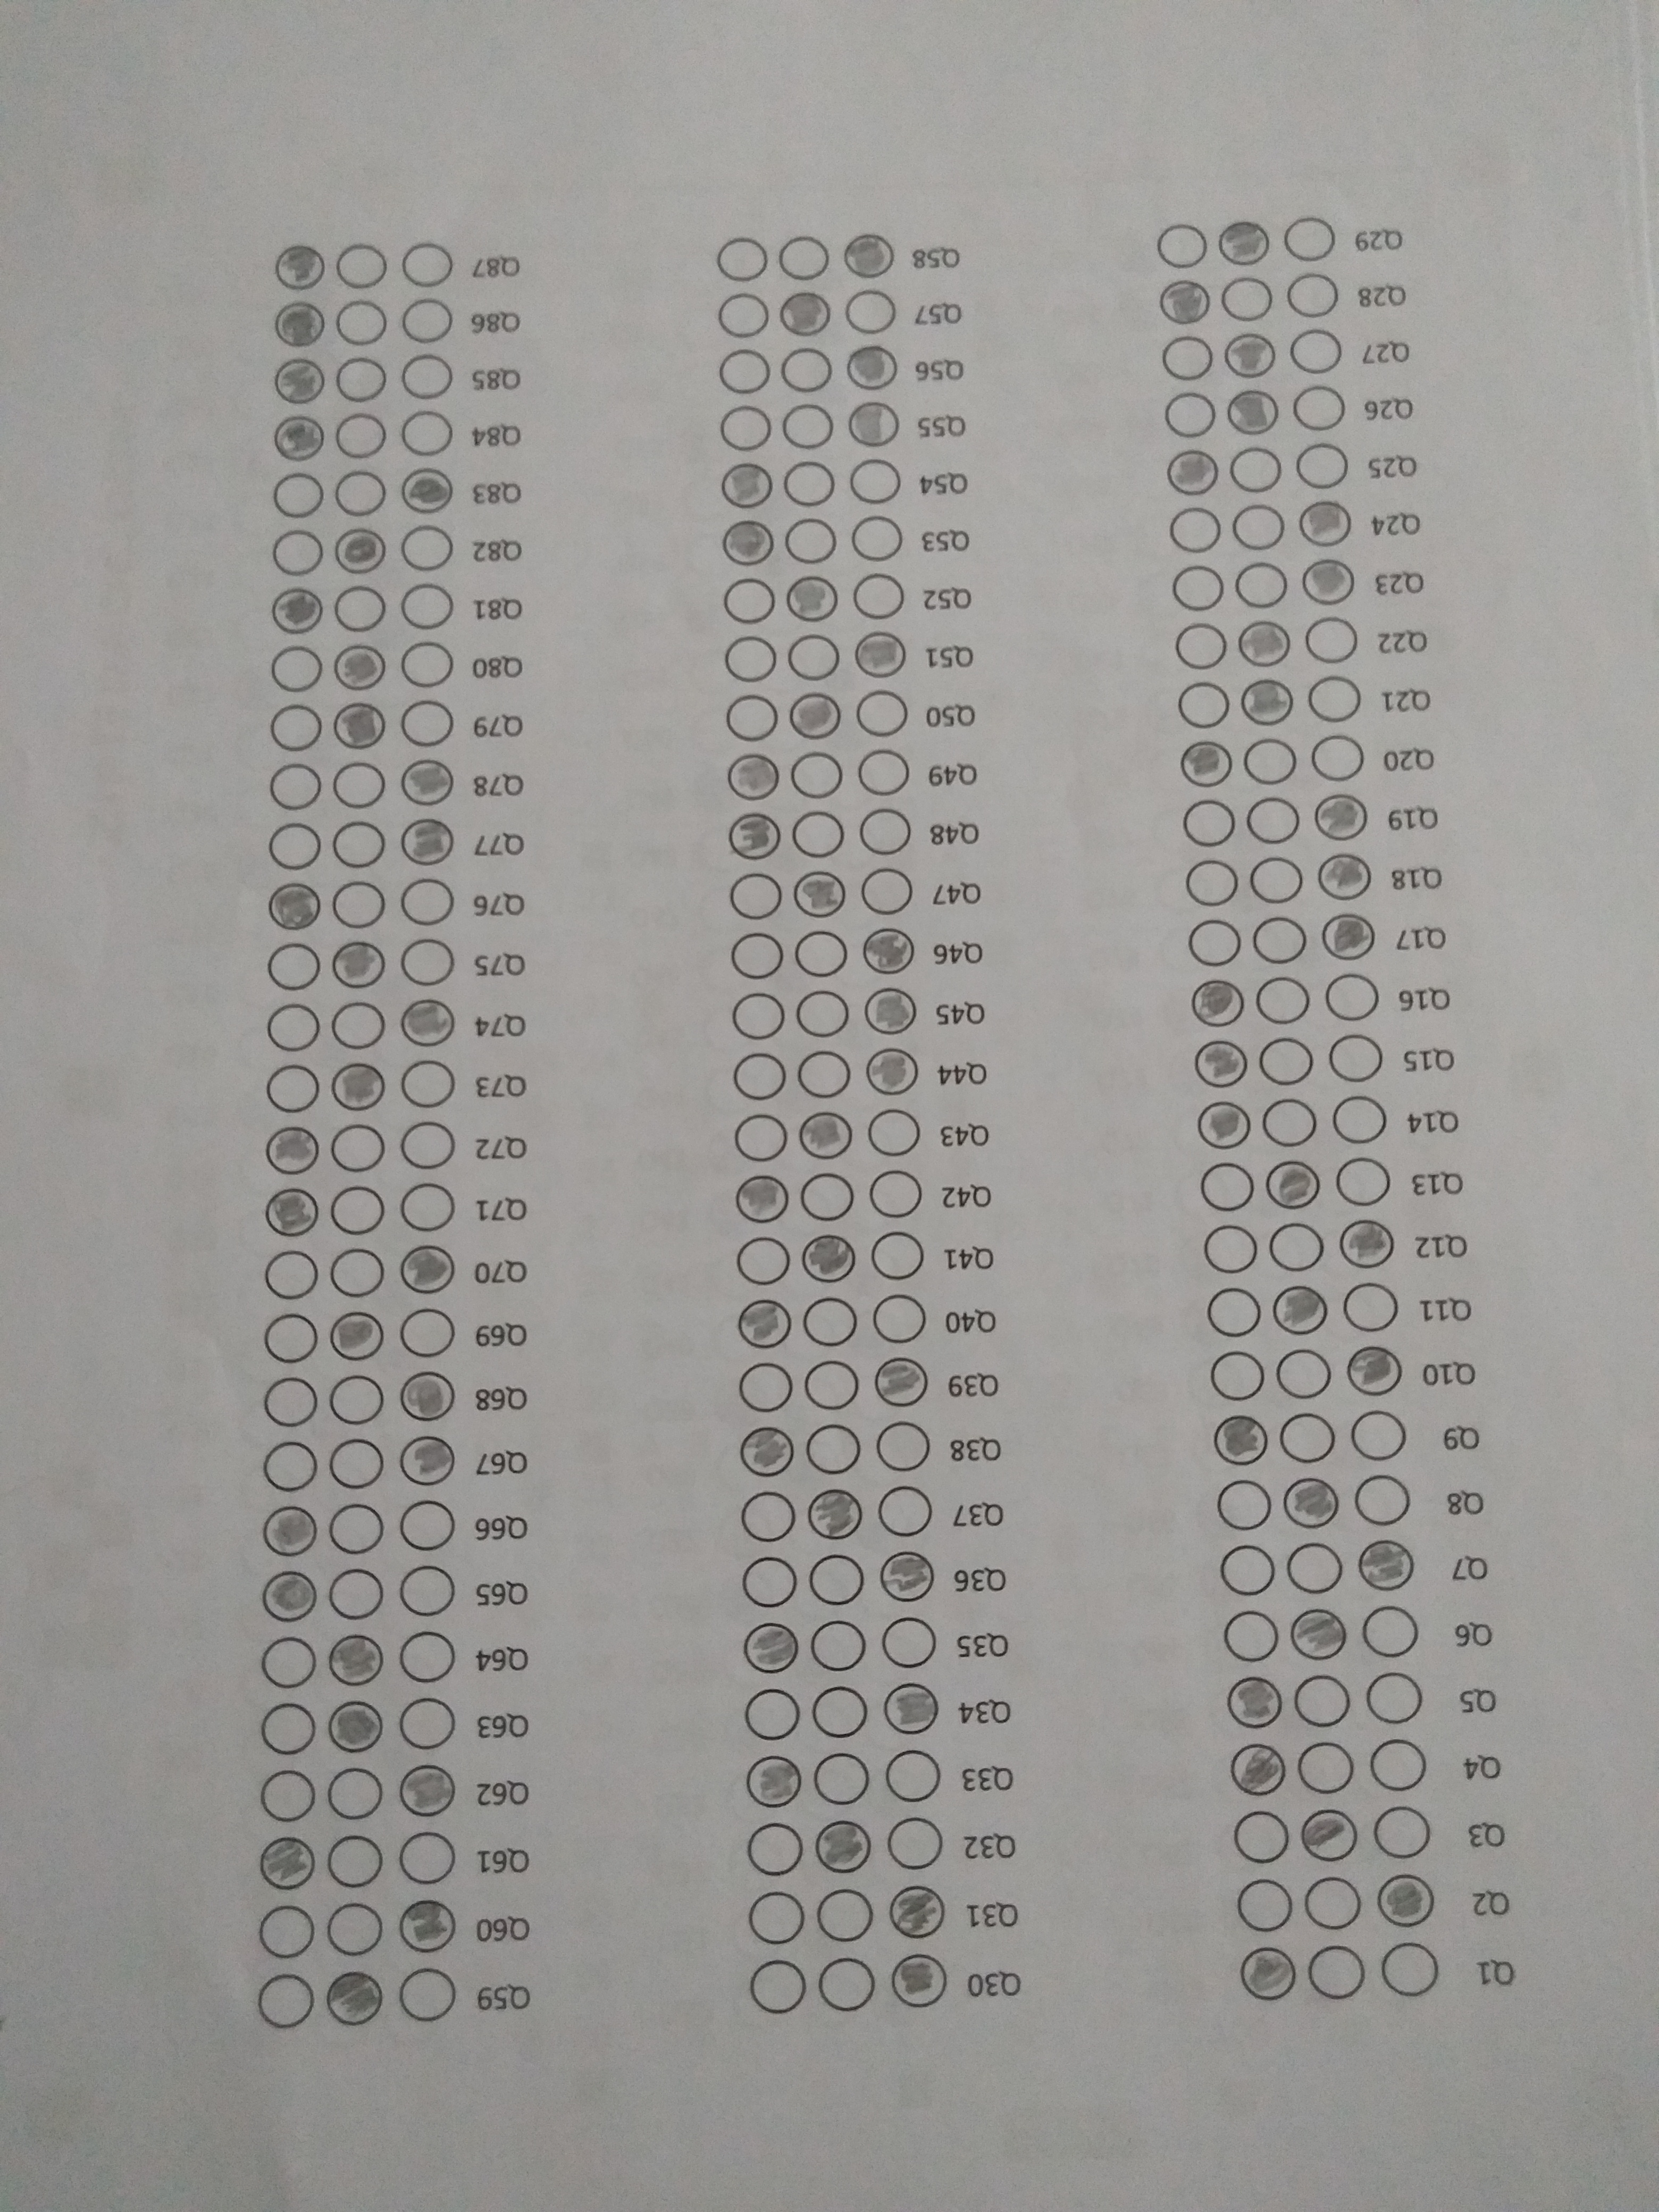not-c: (877, 1742, 948, 1808), (1345, 1402, 1417, 1467), (807, 1883, 875, 1949), (866, 1289, 931, 1355), (1276, 1406, 1344, 1468), (1361, 1667, 1432, 1726), (1263, 1216, 1337, 1273), (1209, 1608, 1284, 1663), (256, 1435, 321, 1500), (852, 805, 918, 867), (812, 1954, 878, 2017), (394, 1562, 462, 1623), (878, 1817, 946, 1878), (739, 1954, 807, 2015), (394, 1829, 464, 1888), (1323, 1031, 1392, 1090), (875, 1615, 948, 1670), (322, 1369, 387, 1432), (809, 1747, 871, 1811), (251, 1632, 319, 1691), (739, 1822, 807, 1881), (1316, 970, 1385, 1028), (1290, 1738, 1359, 1796), (1145, 218, 1216, 273), (782, 625, 845, 688), (254, 1904, 319, 1965), (744, 1886, 809, 1947), (321, 1564, 389, 1622), (324, 1764, 392, 1822), (1169, 794, 1237, 852), (1324, 1090, 1392, 1148), (718, 989, 788, 1045), (798, 1420, 868, 1475), (253, 1062, 324, 1116), (399, 1055, 462, 1116), (397, 1174, 460, 1235), (396, 1496, 460, 1555), (394, 1627, 458, 1686), (397, 1695, 462, 1754), (798, 1357, 863, 1416), (877, 1479, 936, 1543), (807, 1548, 871, 1608), (397, 930, 464, 988), (713, 629, 779, 686), (734, 1489, 800, 1547), (1194, 1158, 1260, 1216), (1331, 1155, 1398, 1212), (1361, 1599, 1427, 1656), (326, 1122, 394, 1177), (392, 1306, 460, 1362), (1225, 1808, 1293, 1864), (1227, 1879, 1298, 1932), (256, 1968, 317, 2029), (863, 1104, 925, 1163), (875, 1414, 934, 1477), (254, 1766, 319, 1824), (850, 570, 915, 627), (798, 1296, 863, 1353), (1284, 207, 1342, 272), (1284, 1538, 1349, 1595), (1307, 1942, 1371, 2000), (396, 1120, 462, 1176), (258, 1247, 324, 1303), (322, 1898, 389, 1954), (1302, 732, 1368, 787), (1291, 1672, 1358, 1728), (1178, 914, 1246, 968), (326, 1827, 385, 1888), (399, 1965, 458, 2026), (741, 1684, 802, 1743), (329, 1244, 392, 1301), (807, 1616, 870, 1674), (1253, 1033, 1316, 1090), (1201, 1221, 1263, 1278), (1366, 1735, 1429, 1792), (1380, 1939, 1443, 1996), (863, 1170, 927, 1226), (1168, 678, 1234, 732), (1305, 669, 1371, 723), (1256, 1094, 1323, 1148), (1370, 1804, 1436, 1858), (1211, 1543, 1279, 1595), (261, 1372, 321, 1432), (1351, 1474, 1412, 1531), (1302, 1872, 1363, 1930), (260, 1312, 322, 1367), (1204, 1285, 1267, 1341), (396, 582, 460, 636), (265, 761, 329, 815), (261, 998, 326, 1052), (1272, 1346, 1337, 1400), (1213, 1477, 1277, 1531), (704, 230, 770, 282), (329, 815, 387, 874), (856, 681, 913, 740), (734, 1233, 793, 1291), (870, 1228, 927, 1287), (735, 1355, 795, 1413), (263, 697, 324, 752), (328, 1439, 389, 1494), (326, 1500, 387, 1555), (849, 512, 911, 566), (1251, 916, 1314, 970), (1206, 1350, 1269, 1404), (397, 876, 462, 928), (775, 232, 840, 284), (711, 401, 775, 453), (720, 873, 784, 925), (1342, 1280, 1406, 1332), (721, 928, 788, 979), (1283, 322, 1349, 373), (1298, 615, 1364, 665), (1237, 737, 1303, 787), (1243, 853, 1309, 904), (331, 996, 389, 1054), (399, 233, 458, 289), (810, 1686, 870, 1742), (1234, 556, 1293, 611), (857, 866, 918, 920), (399, 521, 462, 573), (329, 1184, 392, 1237), (796, 1170, 859, 1223), (394, 408, 458, 458), (1290, 442, 1356, 491), (793, 1050, 850, 1106), (732, 1111, 788, 1169), (741, 1552, 798, 1608), (1159, 331, 1218, 385), (258, 1703, 319, 1756), (720, 691, 781, 744), (399, 350, 462, 401), (1243, 794, 1305, 845), (709, 291, 774, 340), (1248, 974, 1312, 1022), (399, 293, 458, 345), (1166, 503, 1225, 556), (1171, 622, 1230, 674), (263, 939, 324, 989), (845, 458, 906, 509), (786, 810, 847, 860), (1223, 444, 1288, 491), (795, 928, 850, 982), (793, 991, 849, 1045), (789, 749, 847, 801), (727, 1050, 784, 1103), (1291, 380, 1349, 432), (399, 698, 458, 749), (333, 878, 392, 928), (1218, 272, 1277, 322), (265, 644, 326, 693), (1168, 564, 1229, 613), (779, 462, 842, 509), (335, 582, 389, 636), (333, 758, 387, 812), (399, 639, 457, 690), (842, 287, 899, 338), (265, 824, 324, 873), (1230, 500, 1290, 549), (267, 526, 328, 573), (335, 354, 389, 406), (335, 413, 389, 465), (718, 345, 772, 397), (784, 517, 840, 568), (856, 745, 911, 796), (777, 345, 835, 394), (718, 578, 777, 625), (1180, 859, 1239, 906), (782, 399, 835, 451), (270, 472, 326, 521), (331, 298, 389, 345), (1164, 390, 1222, 437), (336, 242, 387, 294), (333, 470, 387, 519), (1288, 273, 1344, 320)
taken-c: (1298, 1806, 1361, 1865), (396, 1761, 460, 1818), (1371, 1871, 1438, 1926), (326, 1966, 385, 2027), (889, 1951, 951, 2008), (396, 1898, 460, 1954), (261, 1500, 321, 1559), (1356, 1534, 1415, 1594), (1229, 1738, 1288, 1797), (258, 1834, 319, 1892), (880, 1677, 941, 1735), (887, 1883, 948, 1940), (805, 1484, 864, 1541), (1345, 1341, 1405, 1399), (1192, 1097, 1253, 1153), (261, 1566, 319, 1623), (878, 1547, 936, 1604), (1227, 1672, 1284, 1730), (739, 1425, 798, 1480), (744, 1754, 803, 1810), (1338, 1216, 1398, 1271), (1290, 1606, 1349, 1662), (261, 1186, 322, 1240), (1263, 1157, 1324, 1211), (1270, 1282, 1331, 1336), (331, 1059, 389, 1115), (328, 1698, 385, 1754), (863, 1043, 920, 1099), (814, 1820, 871, 1876), (397, 1432, 457, 1486), (734, 1298, 795, 1350), (1209, 1413, 1270, 1465), (401, 1367, 457, 1423), (329, 1308, 387, 1362), (329, 1632, 387, 1686), (734, 1174, 791, 1228), (744, 1622, 802, 1676), (1241, 1947, 1298, 2001), (843, 397, 903, 449), (781, 571, 840, 624), (1188, 975, 1248, 1028), (1190, 1036, 1249, 1089), (261, 1127, 322, 1177), (1310, 792, 1371, 843), (333, 641, 389, 695), (802, 1231, 857, 1285), (1316, 848, 1371, 902), (1284, 1475, 1340, 1529), (399, 1242, 457, 1294), (852, 627, 910, 679), (861, 984, 918, 1036), (873, 1355, 931, 1407), (1319, 909, 1377, 961), (329, 698, 389, 749), (798, 1111, 857, 1162), (401, 813, 455, 867), (401, 756, 457, 808), (1180, 737, 1236, 789), (329, 939, 387, 989), (789, 869, 847, 920), (265, 881, 324, 930), (859, 927, 918, 975), (335, 524, 389, 577), (788, 688, 842, 740), (728, 810, 782, 862), (272, 411, 328, 462), (270, 585, 326, 636), (399, 996, 455, 1047), (843, 341, 899, 392), (720, 517, 775, 568), (397, 465, 455, 514), (1297, 498, 1354, 547), (1239, 678, 1297, 726), (272, 298, 326, 348), (274, 357, 328, 408), (727, 751, 781, 801), (1216, 218, 1270, 268), (1222, 329, 1276, 380), (1237, 617, 1291, 667), (1157, 277, 1213, 326), (1300, 559, 1358, 606), (274, 242, 328, 291), (720, 462, 774, 510), (1225, 388, 1279, 437), (779, 289, 833, 336), (1166, 448, 1220, 495), (843, 232, 896, 279)
